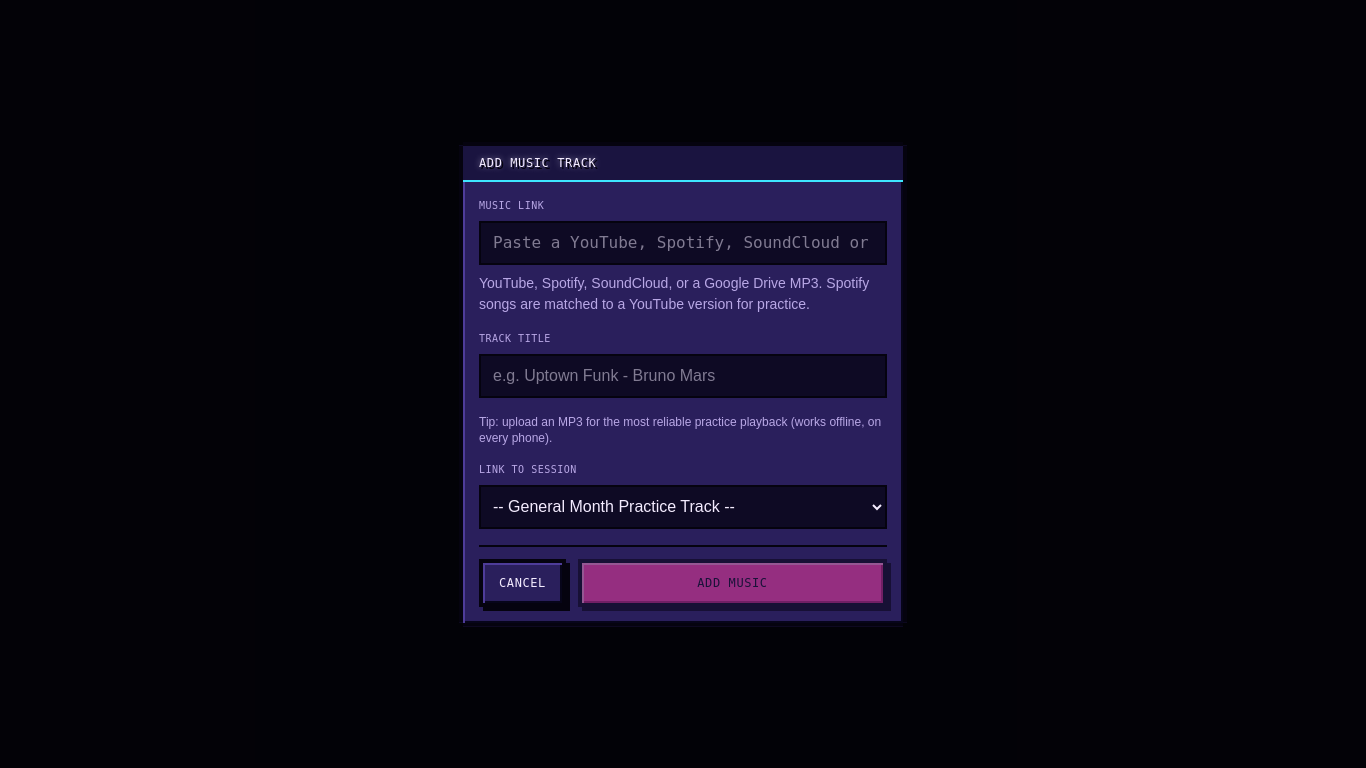
it: MusicForm › shows the server reason when a link cannot be used
Type "https://soundcloud.com/forss/gone" into the field with placeholder "Paste a YouTube, Spotify, SoundCloud or Drive MP3 link".
click(683, 242); type("https://soundcloud.com/forss/gone")  # box top-left (479, 220), bottom-right (887, 264)
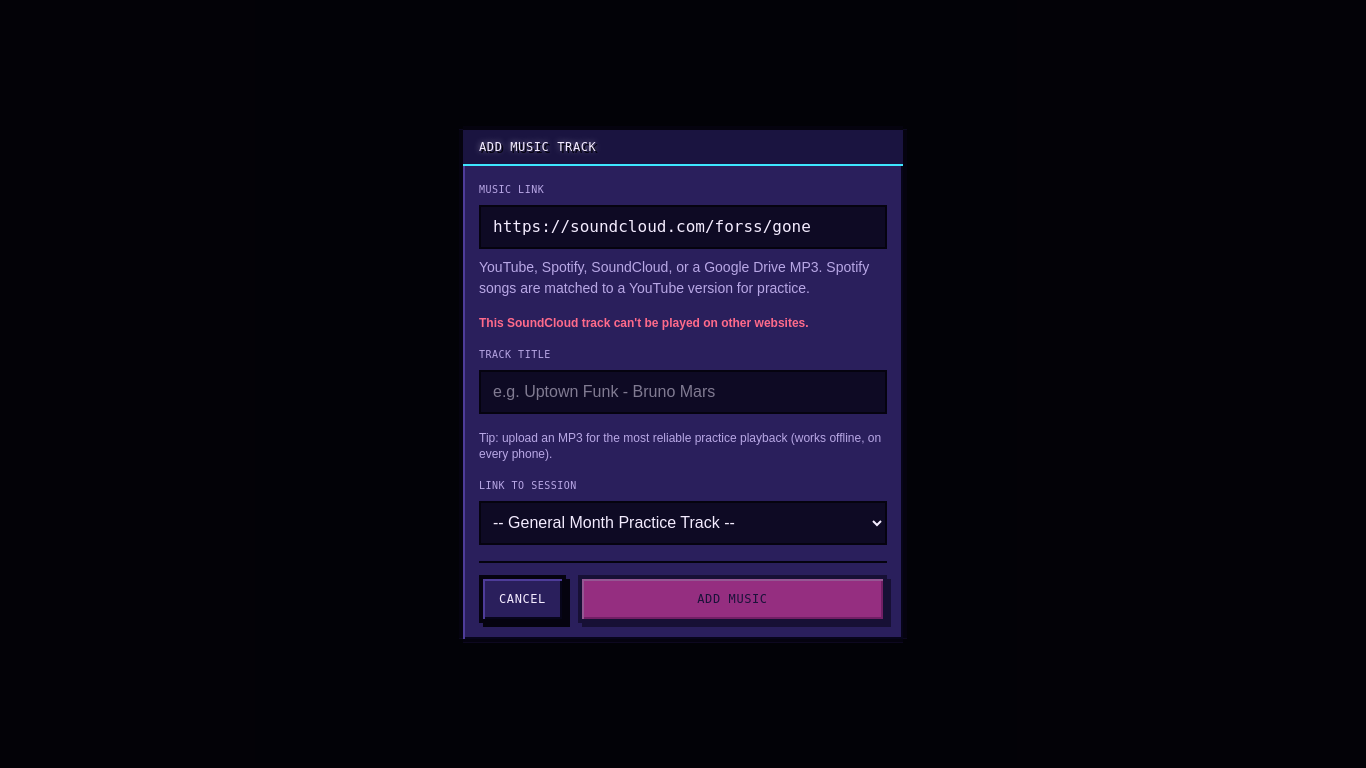
Expected: the button "ADD MUSIC" is disabled, top-left (578, 574), bottom-right (887, 622)
Now the text "This SoundCloud track can't be played on other websites." is shown, box top-left (479, 316), bottom-right (809, 330)
